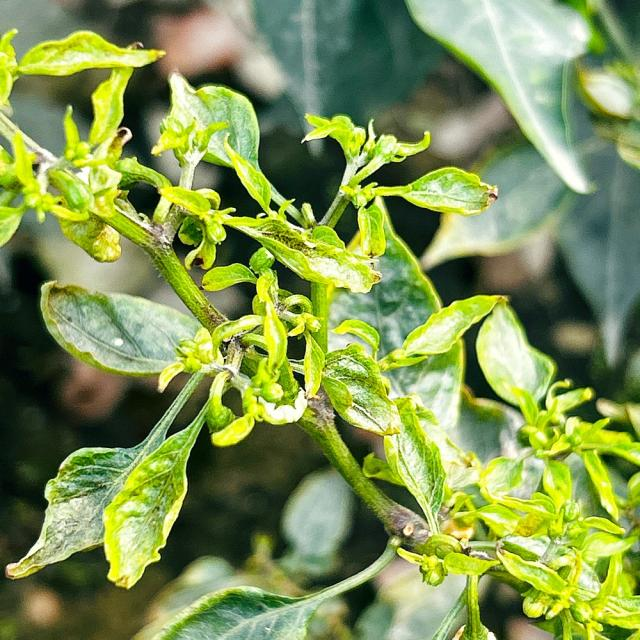Chilli_Leaf_Curl: (1, 25, 638, 638), (5, 368, 218, 590), (0, 27, 166, 263), (404, 0, 599, 195), (38, 278, 206, 379)
